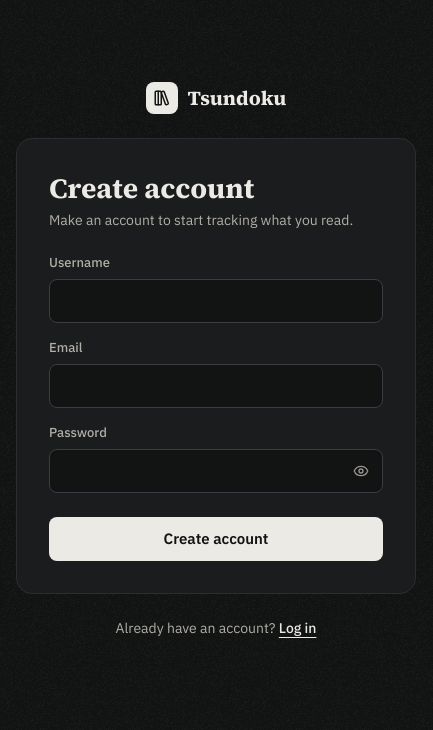
Test: RegisterPage › maps backend field errors to registration fields
Type "reader" into the field labelled "Username" at coordinates (216, 301), box [49,279,383,323]
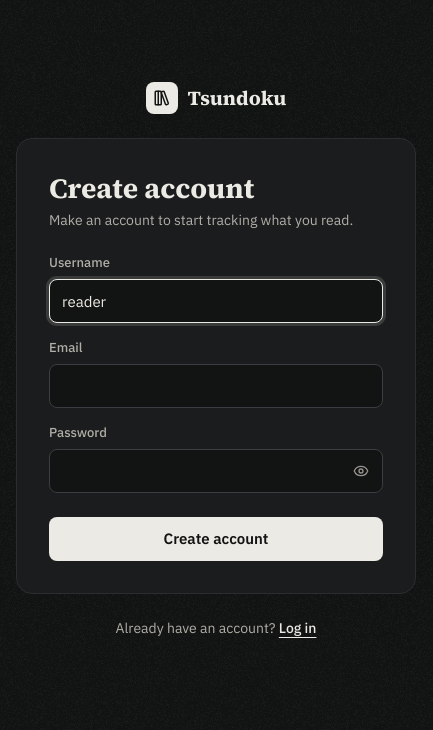
Type "reader@example.com" into the field labelled "Email" at coordinates (216, 386), box [49,364,383,408]
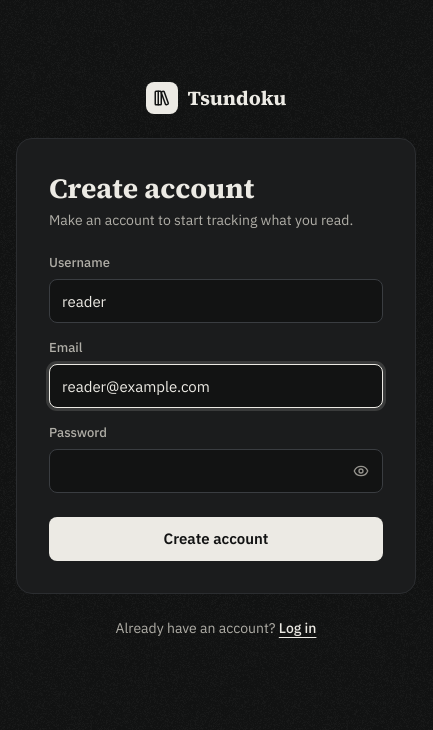
Type "Password123!" into the password field labelled "Password" at coordinates (216, 471), box [49,449,383,493]
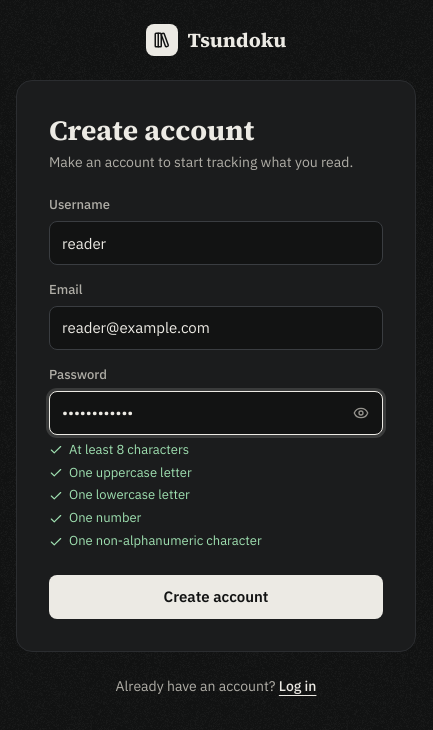
Click the button "Create account" at coordinates (216, 597), box [49,575,383,619]
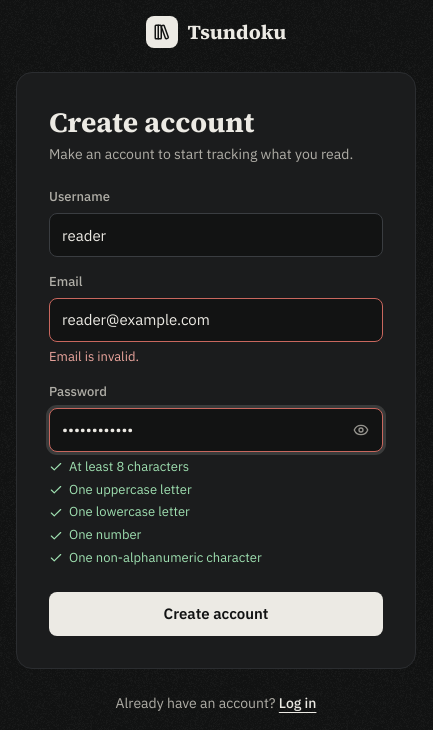
Check: the text "Email is invalid." is shown, box [49,348,139,365]
